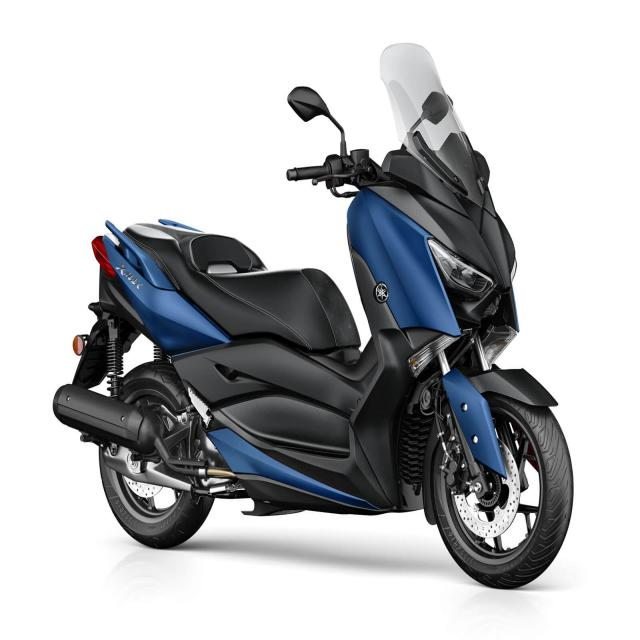Motorcycle: (52, 44, 574, 589)
